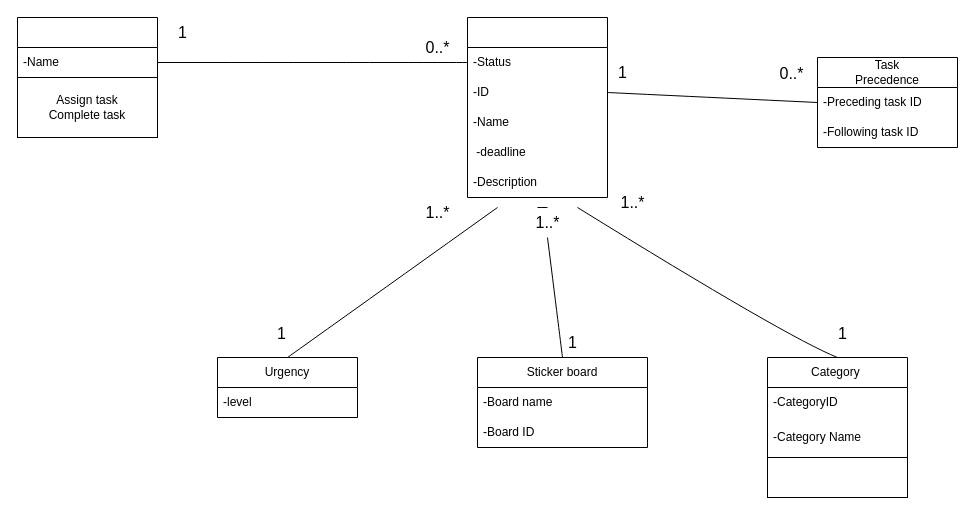
The diagram is 975 pixels wide and 515 high, and some of its shapes have lost their labels. The box of each missing label's shape, as (x1, y1, x2, y2) in pixels:
Categorize: (766, 456, 908, 498)
Person: (16, 16, 158, 78)
Task: (466, 16, 608, 198)
